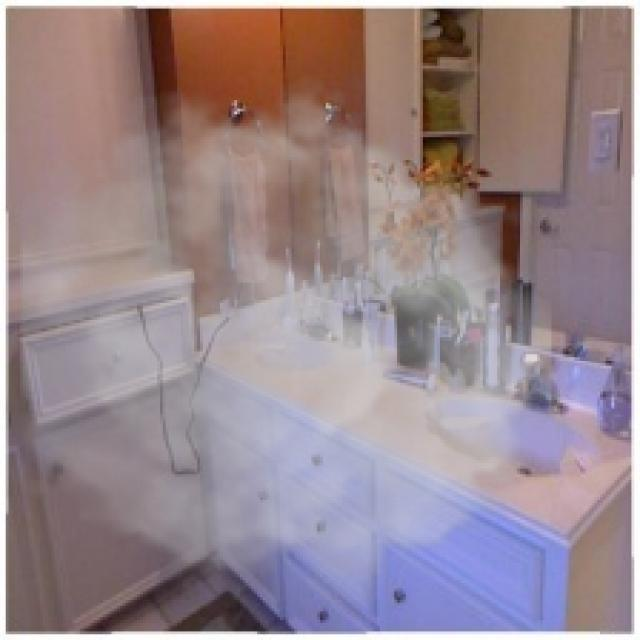Smoke: (19, 71, 552, 612)
